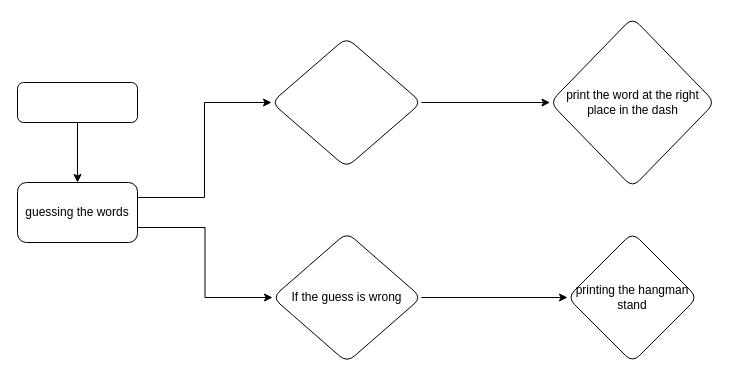
Some shapes in this 733 by 380 pixel diagram are drawn without their labels. The centre of each missing label's shape, as x and y in pixels:
"If the guess is correct" goes at (346,102).
"Start" goes at (77,102).
